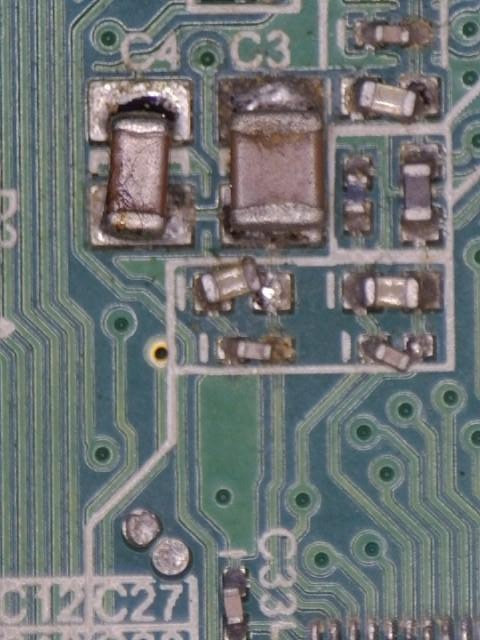pcb_defect: (193, 256, 293, 313), (339, 75, 440, 118), (357, 333, 434, 374)
